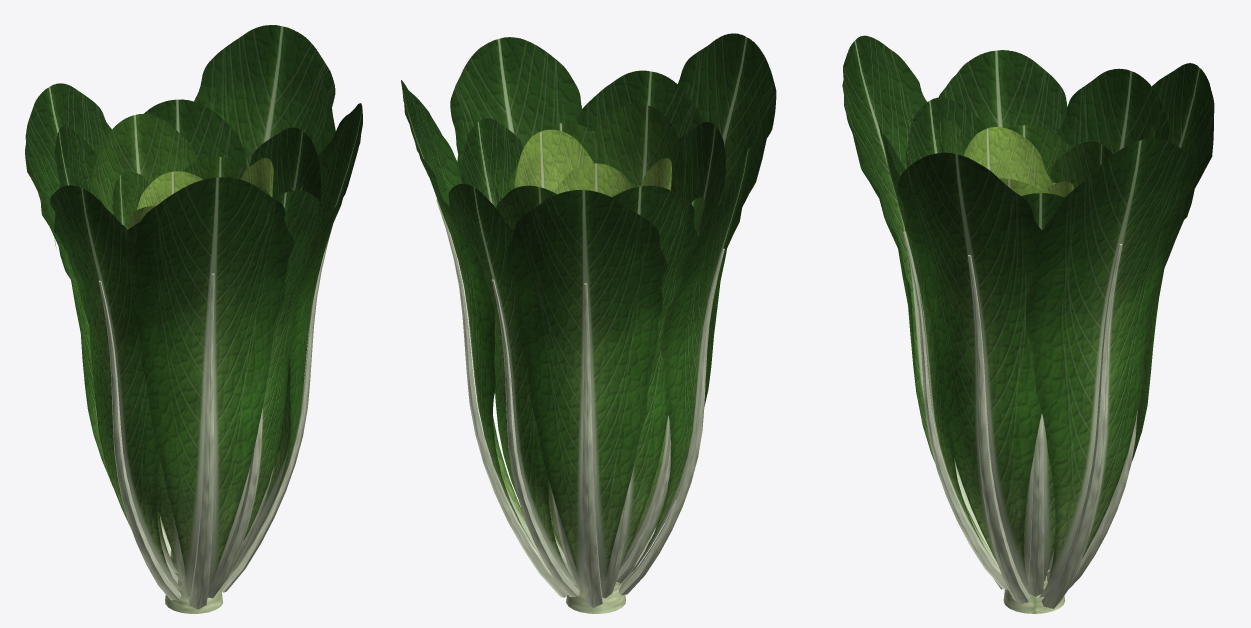
File: iss-romaine-lettuce-cc0.glb
The picture shows the model from 3 angles, left to right: view 1: azimuth 30°, elevation 25°; view 2: azimuth 150°, elevation 25°; view 3: azimuth 270°, elevation 25°; orthographic projection. The views are drawn at different scales.
Visible parts, largest first — view 1: Romaine leaves (alpha-cut, separate oblong leaves round the , Romaine thick pale midribs, Romaine cut core; view 2: Romaine leaves (alpha-cut, separate oblong leaves round the , Romaine thick pale midribs, Romaine cut core; view 3: Romaine leaves (alpha-cut, separate oblong leaves round the , Romaine thick pale midribs, Romaine cut core.
Boxes of the visible parts, x1,y1,x2,y2 form: Romaine leaves (alpha-cut, separate oblong leaves round the : (25,25,362,596); Romaine thick pale midribs: (94,225,332,609); Romaine cut core: (165,550,222,613); Romaine leaves (alpha-cut, separate oblong leaves round the : (401,33,776,593); Romaine thick pale midribs: (436,199,724,607); Romaine cut core: (566,566,625,613); Romaine leaves (alpha-cut, separate oblong leaves round the : (842,35,1214,597); Romaine thick pale midribs: (903,231,1137,608); Romaine cut core: (1003,569,1065,613).
Size of the model in its own units: 0.2129 by 0.3328 by 0.2359.
2 materials, 2 textured.
